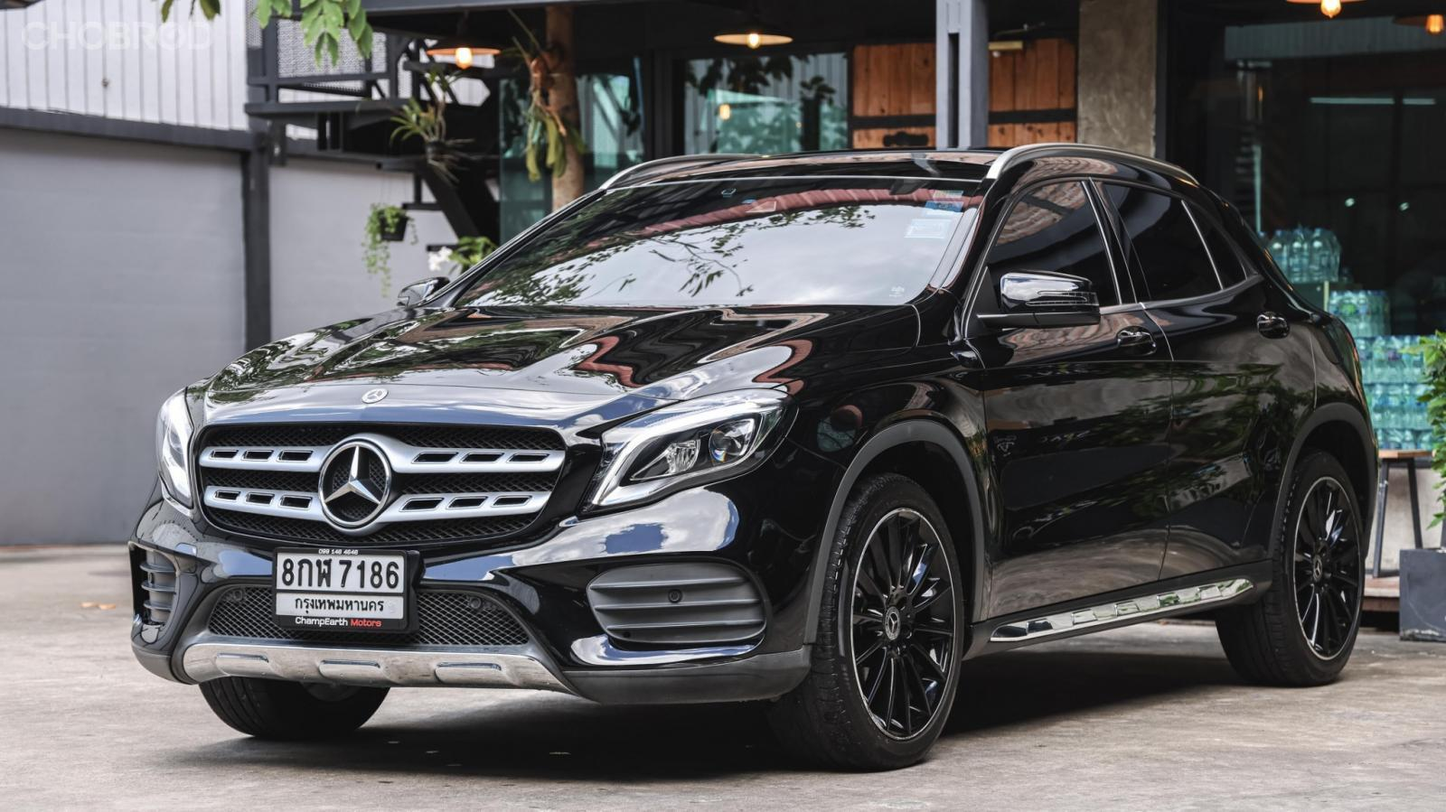license-plate: (275, 546, 412, 632)
